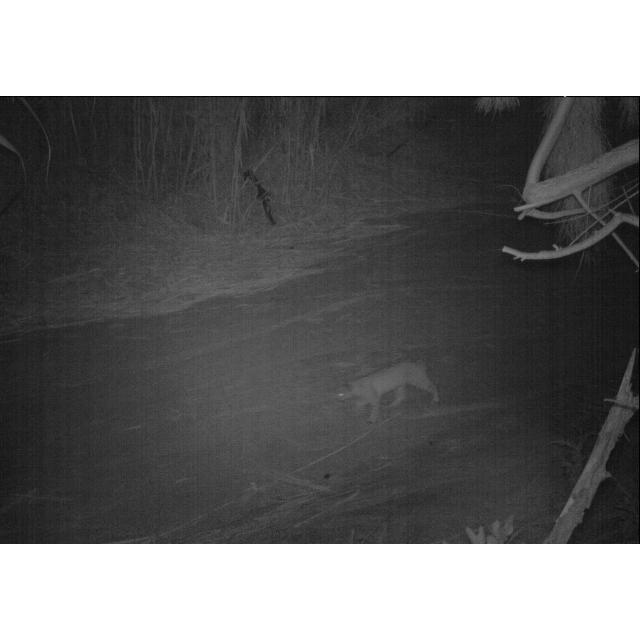animals: (336, 351, 442, 419)
